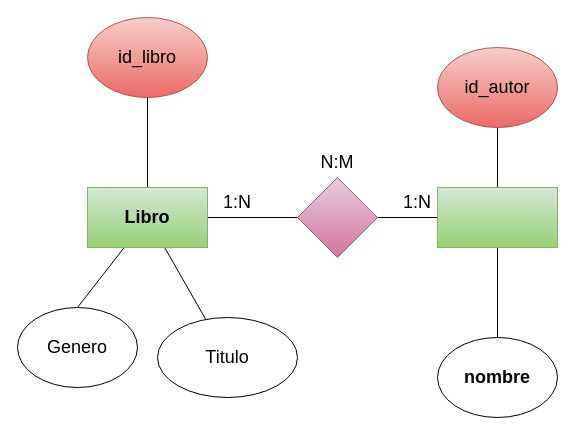
The diagram is 575 pixels wide and 435 high, and some of its shapes have lost their labels. Each missing label, with the box of its shape:
Autores: (436, 186, 558, 248)
Tiene: (296, 176, 378, 258)
